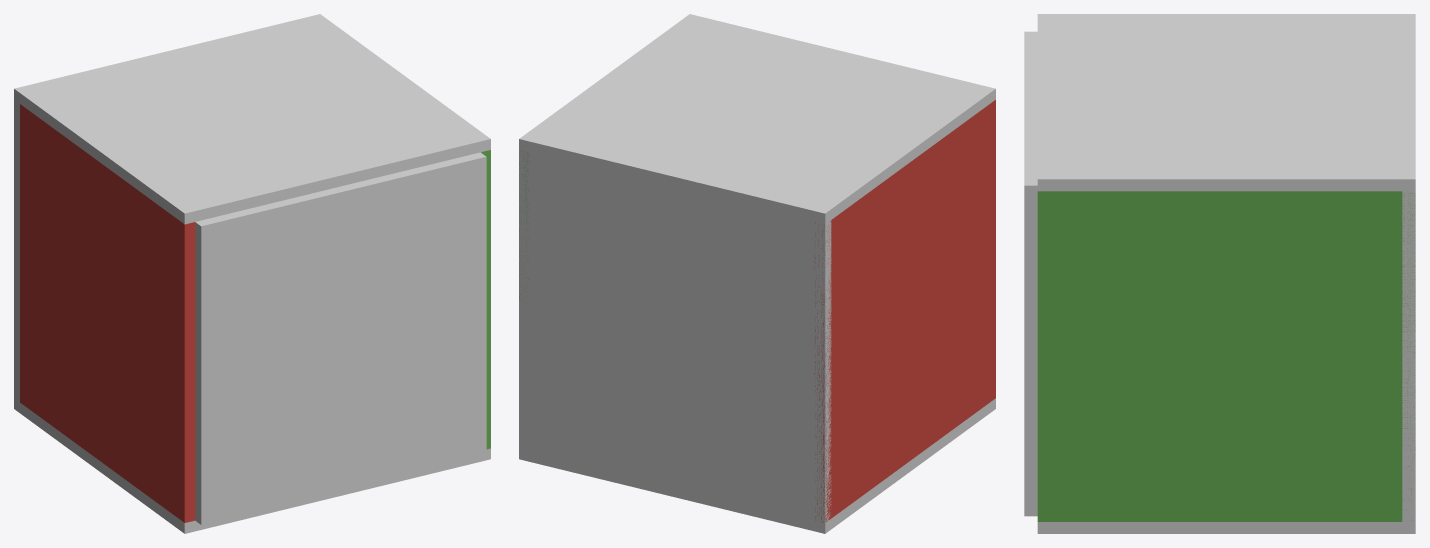
The picture shows the model from 3 angles, left to right: view 1: azimuth 30°, elevation 25°; view 2: azimuth 150°, elevation 25°; view 3: azimuth 270°, elevation 25°; orthographic projection. The views are drawn at different scales.
Visible parts, largest first — view 1: Front, Ceiling, Wall_Red, Back, Floor, Wall_Green; view 2: Back, Ceiling, Wall_Red, Floor; view 3: Wall_Green, Ceiling, Back, Front, Floor.
Part boxes in pixels (x1=…): Front: x1=195, y1=152, x2=486, y2=524; Ceiling: x1=14, y1=18, x2=490, y2=224; Wall_Red: x1=20, y1=104, x2=195, y2=522; Back: x1=14, y1=14, x2=325, y2=412; Floor: x1=14, y1=398, x2=490, y2=533; Wall_Green: x1=481, y1=150, x2=490, y2=449; Back: x1=519, y1=134, x2=831, y2=533; Ceiling: x1=519, y1=14, x2=995, y2=223; Wall_Red: x1=814, y1=100, x2=995, y2=522; Floor: x1=558, y1=398, x2=995, y2=533; Wall_Green: x1=1037, y1=191, x2=1415, y2=521; Ceiling: x1=1037, y1=14, x2=1415, y2=191; Back: x1=1402, y1=14, x2=1415, y2=533; Front: x1=1024, y1=31, x2=1037, y2=516; Floor: x1=1037, y1=522, x2=1415, y2=533.
Size of the model in its own units: 5.9 by 5.9 by 5.9.
